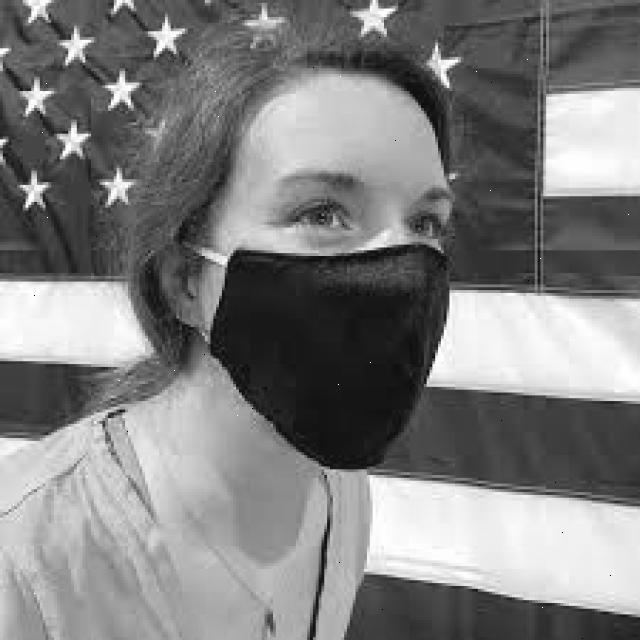fake: (209, 240, 454, 469)
real: (206, 78, 460, 483)
